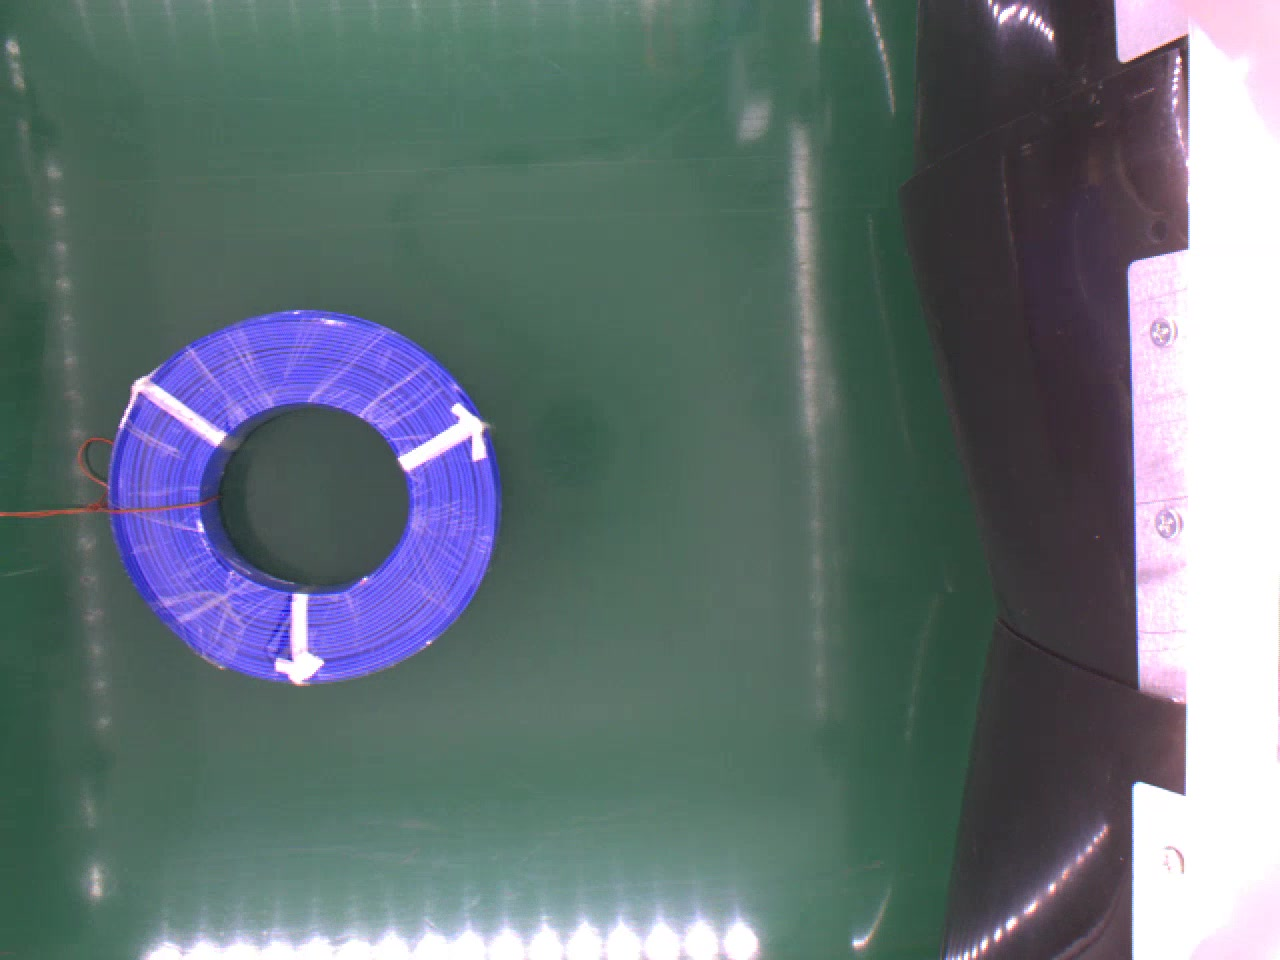blue: (109, 309, 500, 686)
